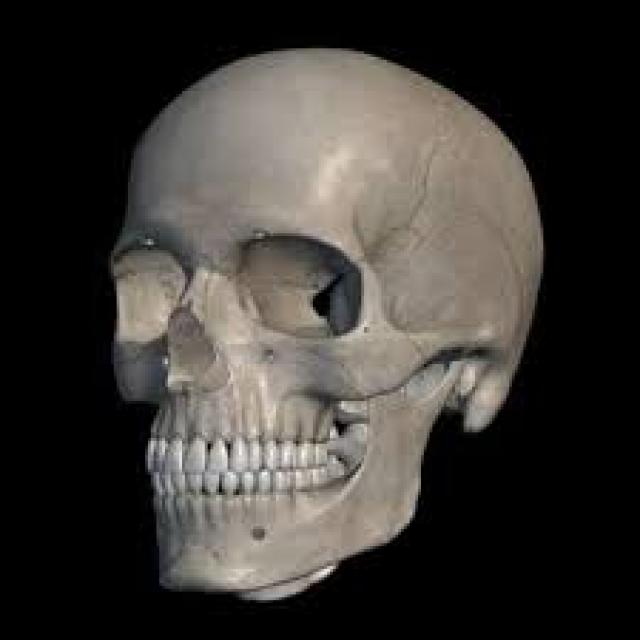skull: (90, 20, 560, 628)
